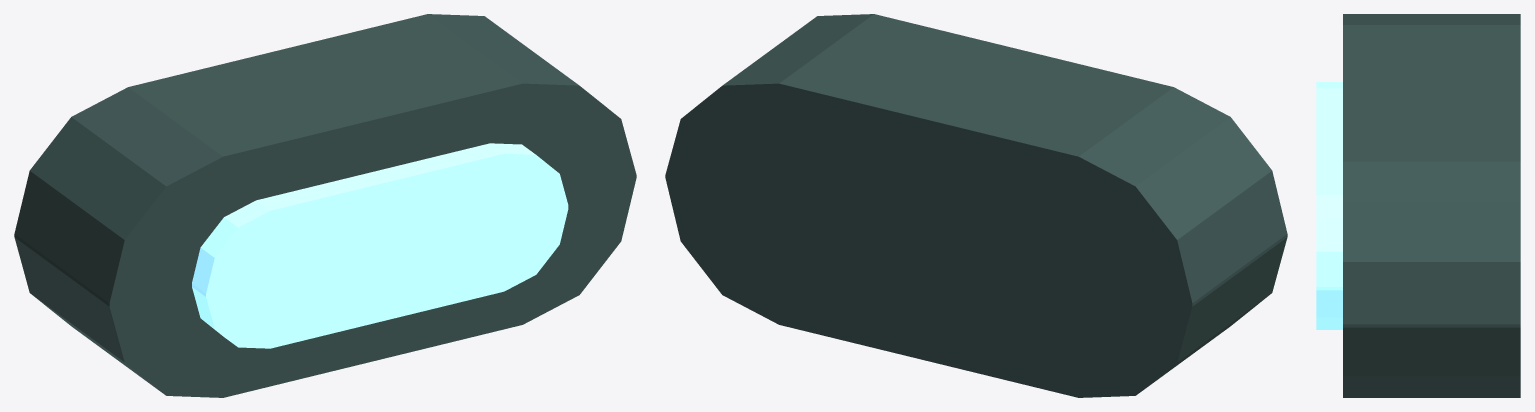
File: Signal_Lamp.gltf
3 renders of one model, left to right at view 1: azimuth 30°, elevation 25°; view 2: azimuth 150°, elevation 25°; view 3: azimuth 270°, elevation 25°, orthographic. The views are drawn at different scales.
Visible parts, largest first — view 1: Signal_Lamp_baked; view 2: Signal_Lamp_baked; view 3: Signal_Lamp_baked.
Boxes of the visible parts, x1=… form: Signal_Lamp_baked: x1=14, y1=14, x2=636, y2=397; Signal_Lamp_baked: x1=665, y1=14, x2=1287, y2=397; Signal_Lamp_baked: x1=1316, y1=14, x2=1520, y2=397.
Bounding box in the file's own units: 0.32 × 0.14 × 0.115.
